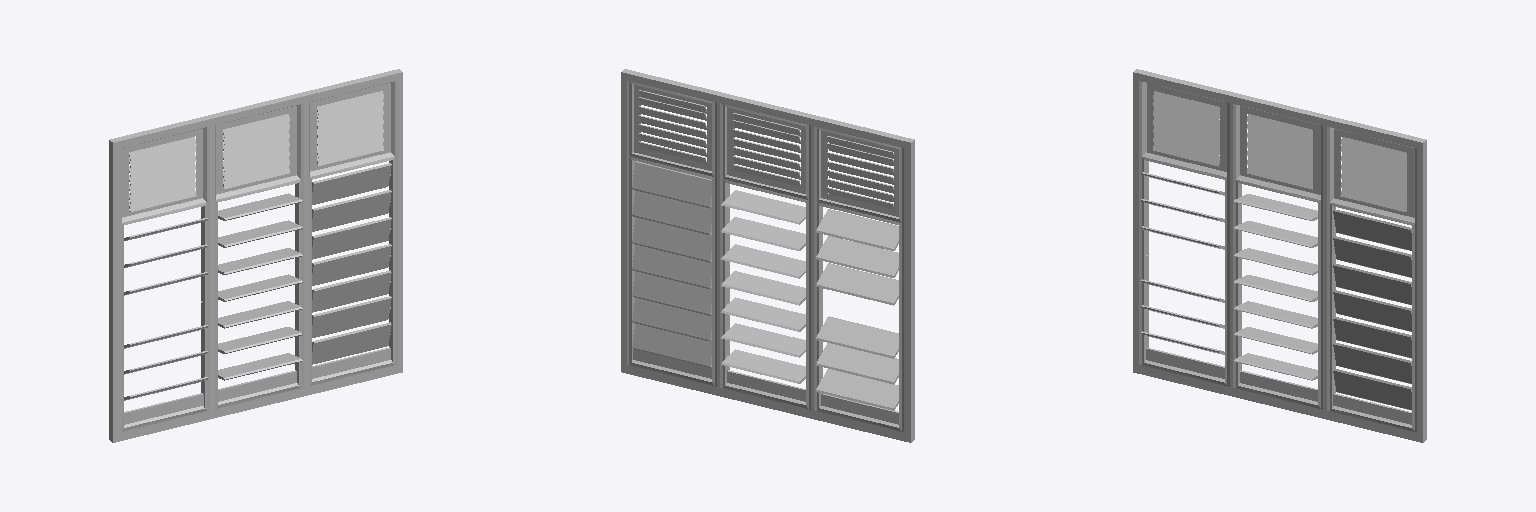
Rendered from janale01.obj.
3 views of the same model, side by side, from view 1: azimuth 30°, elevation 25°; view 2: azimuth 150°, elevation 25°; view 3: azimuth 330°, elevation 25° (orthographic).
Parts seen in each view (by area): view 1: window.002_Cube.006; view 2: window.002_Cube.006; view 3: window.002_Cube.006.
Part boxes in pixels (bbox=[...]): window.002_Cube.006: bbox=[109, 69, 402, 442]; window.002_Cube.006: bbox=[621, 69, 914, 442]; window.002_Cube.006: bbox=[1133, 69, 1426, 442].
Bounding box in the file's own units: 11.3 × 11.19 × 1.02.